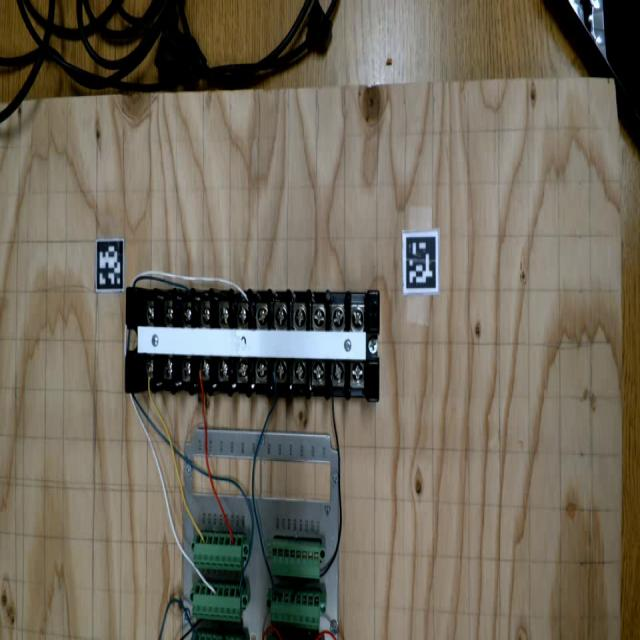Phillips_Block: (123, 283, 382, 401)
Terminal_2: (271, 588, 321, 630), (192, 582, 243, 622), (193, 532, 243, 571)
